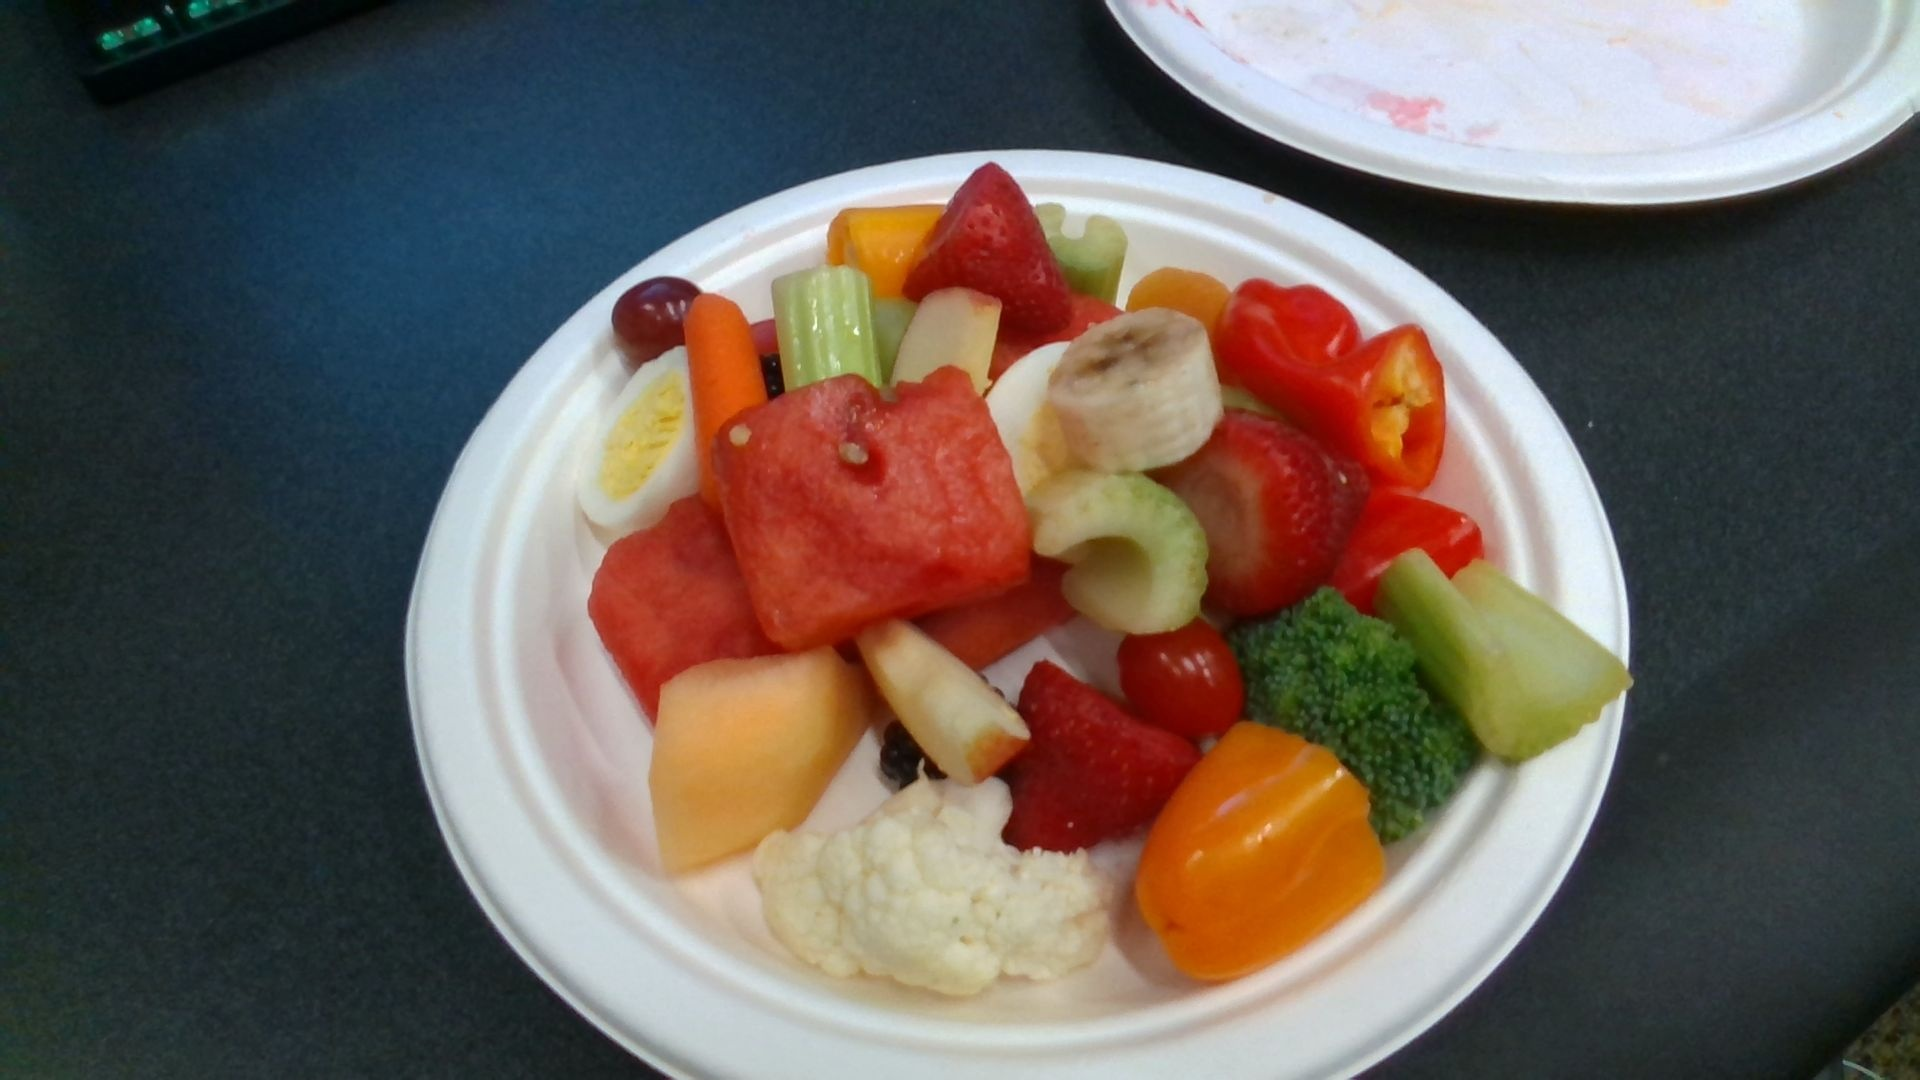apple: (851, 621, 1030, 781), (891, 287, 1002, 396)
banana: (1055, 311, 1222, 465)
bell_pepper: (1139, 721, 1385, 978), (1215, 281, 1444, 488)
broccoli: (1230, 595, 1480, 841)
cantalope: (650, 651, 865, 870)
carrot: (684, 295, 764, 471)
cauliflower: (756, 778, 1122, 996)
celery: (1379, 550, 1629, 756), (1035, 475, 1204, 636), (769, 268, 882, 396)
cherry_tomato: (1120, 630, 1240, 735)
egg: (582, 348, 699, 524)
grape_purple: (615, 281, 700, 345)
melon: (719, 373, 1029, 646), (593, 498, 775, 725)
strawberry: (1179, 411, 1365, 611), (1004, 663, 1204, 848), (910, 166, 1069, 330)
